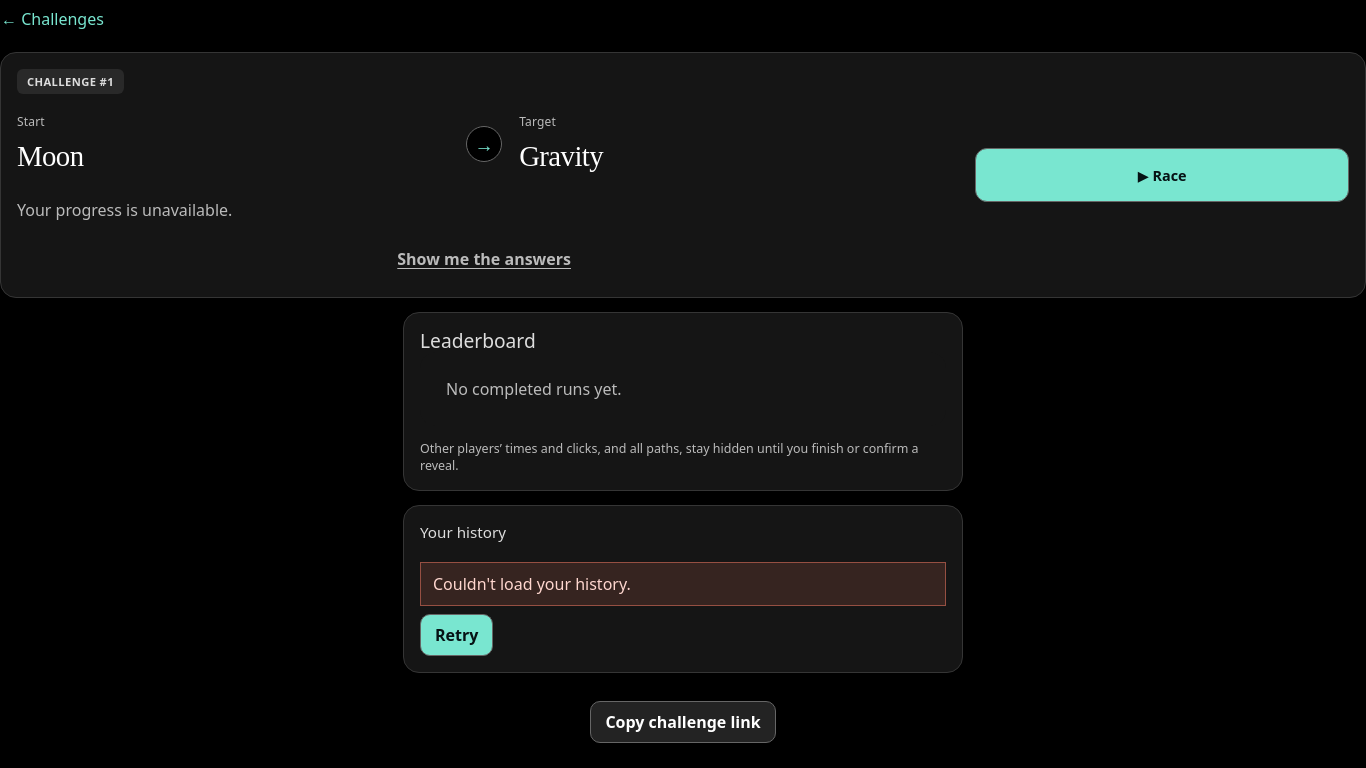
Scenario: keeps an outcome-confirmed DNF action available when the leaderboard fails (eligible: true)
This screenshot has width=1366, height=768.
Click the button "Show me the answers" at (484, 259), box [17, 237, 951, 281]
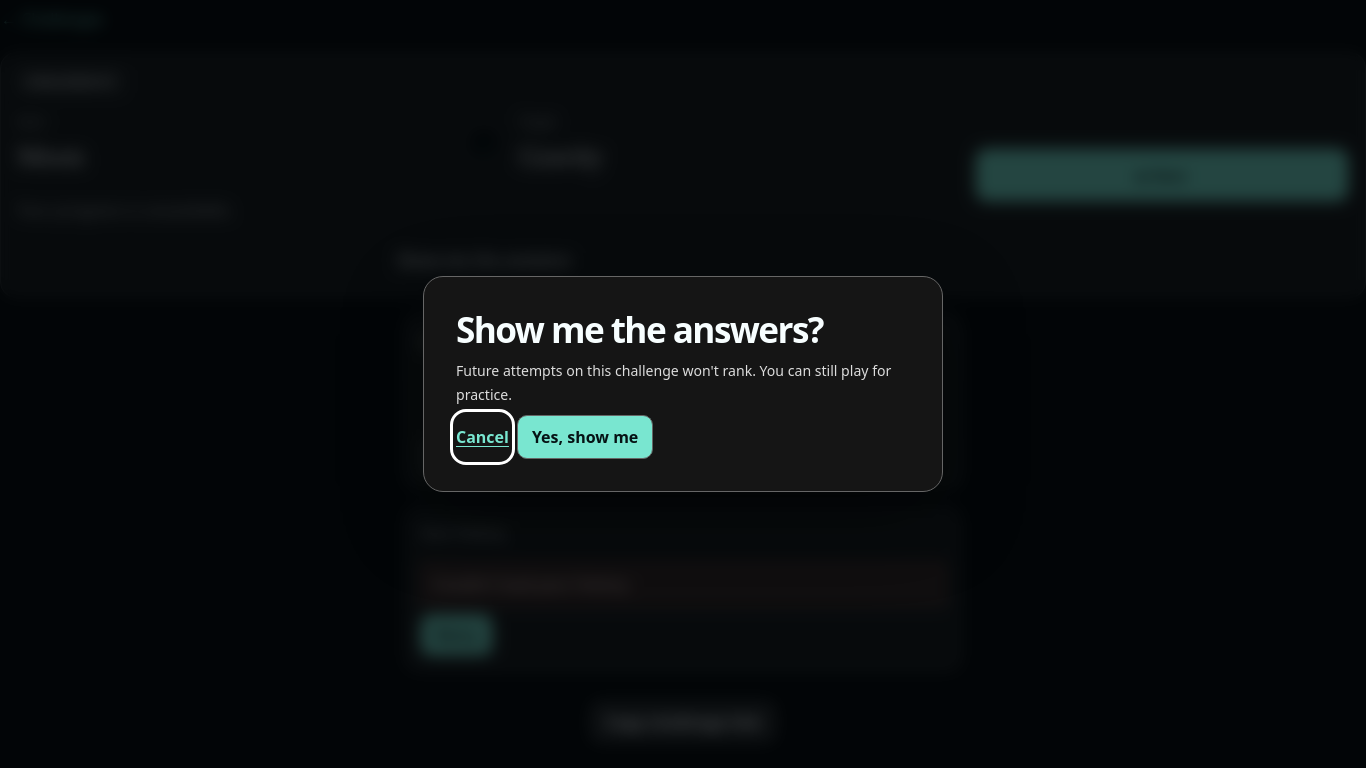
Check: the dialog "Show me the answers?" is shown, box [423, 276, 943, 492]
